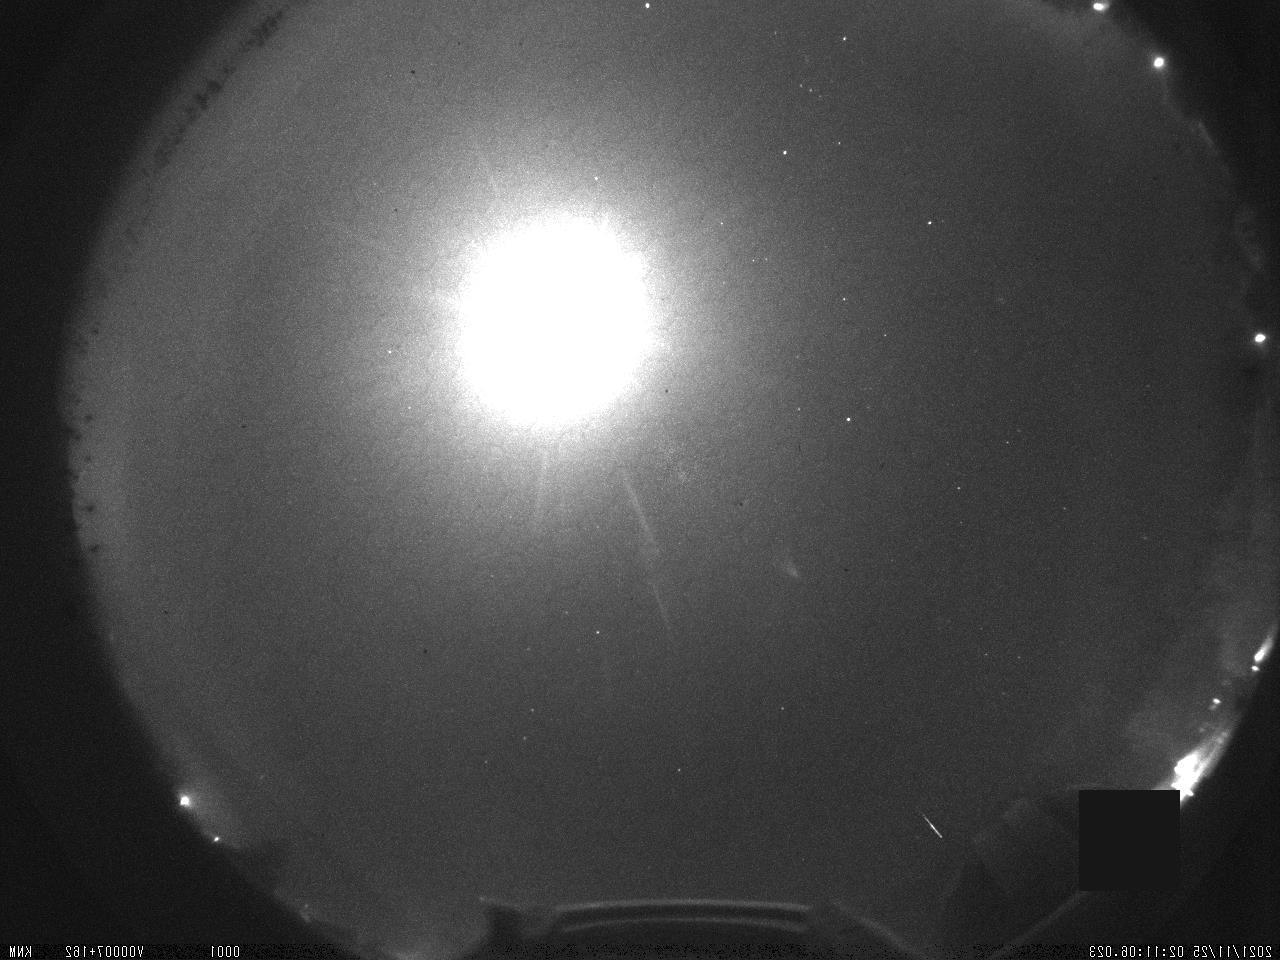meteor: (909, 797, 953, 862)
